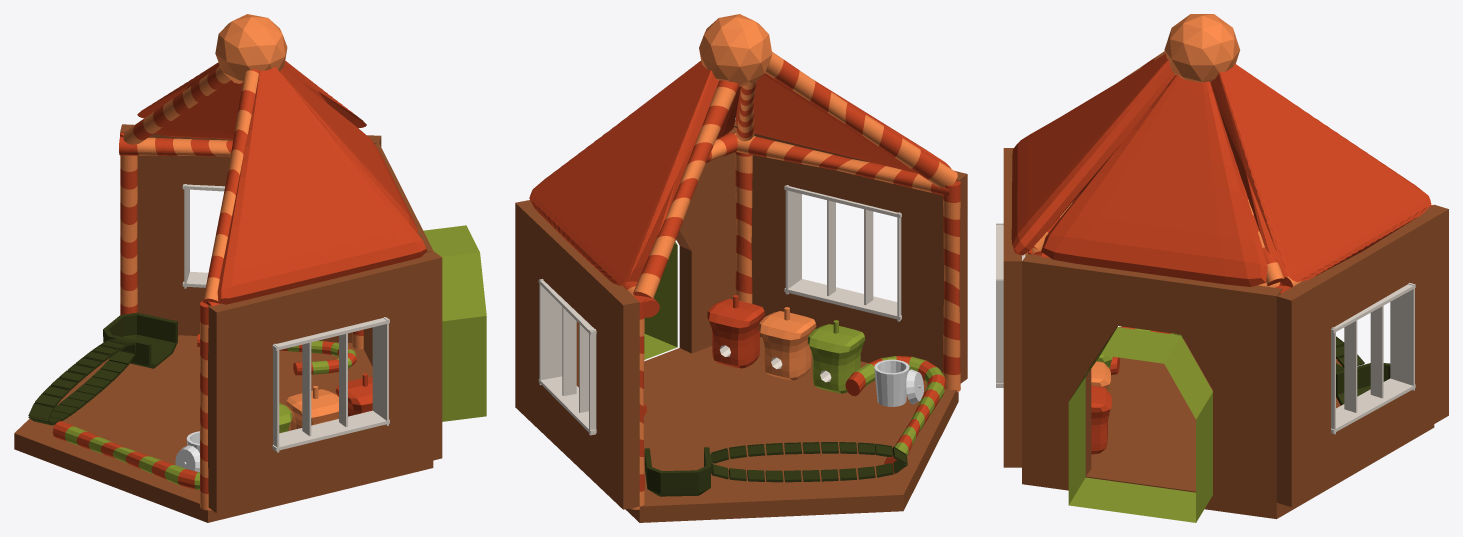
Rendered from Xmas_Fac_final.fbx.
The picture shows the model from 3 angles, left to right: view 1: azimuth 30°, elevation 25°; view 2: azimuth 150°, elevation 25°; view 3: azimuth 270°, elevation 25°; orthographic projection. The views are drawn at different scales.
Parts seen in each view (by area): view 1: Circle.002, roof.002, Circle.001, Circle.003, Circle.005, roof.001, Cube.040, Icosphere, roof.003, Cylinder.013, Cylinder.015, Cube.039 (+15 smaller); view 2: Circle.001, Circle.002, Circle.003, roof.001, Circle.004, roof.002, Cube.040, Cylinder.013, Cylinder.014, Icosphere, Cylinder.016, Cylinder.009 (+23 smaller); view 3: Circle.004, Circle.003, roof.003, roof.001, Circle.001, roof.002, Circle.005, Circle.002, Icosphere, Circle.010, Cube.008, Cube.004 (+8 smaller).
Boxes of the visible parts, x1=… form: Circle.002: x1=208, y1=251, x2=442, y2=513; roof.002: x1=217, y1=66, x2=426, y2=304; Circle.001: x1=14, y1=335, x2=433, y2=522; Circle.003: x1=120, y1=124, x2=381, y2=342; Circle.005: x1=423, y1=225, x2=486, y2=421; roof.001: x1=137, y1=61, x2=366, y2=139; Cube.040: x1=28, y1=338, x2=135, y2=425; Icosphere: x1=215, y1=14, x2=287, y2=83; roof.003: x1=280, y1=68, x2=417, y2=233; Cylinder.013: x1=203, y1=69, x2=259, y2=303; Cylinder.015: x1=120, y1=132, x2=137, y2=314; Cube.039: x1=103, y1=312, x2=177, y2=368; Circle.001: x1=625, y1=337, x2=958, y2=522; Circle.002: x1=734, y1=119, x2=967, y2=383; Circle.003: x1=515, y1=200, x2=639, y2=509; roof.001: x1=529, y1=61, x2=718, y2=285; Circle.004: x1=576, y1=127, x2=736, y2=387; roof.002: x1=736, y1=73, x2=951, y2=173; Cube.040: x1=710, y1=442, x2=907, y2=482; Cylinder.013: x1=765, y1=51, x2=957, y2=187; Cylinder.014: x1=633, y1=80, x2=739, y2=298; Icosphere: x1=699, y1=14, x2=772, y2=86; Cylinder.016: x1=943, y1=181, x2=960, y2=392; Cylinder.009: x1=735, y1=133, x2=957, y2=195; Circle.004: x1=1022, y1=254, x2=1282, y2=502; Circle.003: x1=1276, y1=204, x2=1448, y2=506; roof.003: x1=1041, y1=75, x2=1267, y2=286; roof.001: x1=1210, y1=64, x2=1431, y2=281; Circle.001: x1=1022, y1=339, x2=1434, y2=519; roof.002: x1=1011, y1=54, x2=1175, y2=255; Circle.005: x1=1068, y1=327, x2=1212, y2=504; Circle.002: x1=1003, y1=148, x2=1021, y2=467; Icosphere: x1=1164, y1=14, x2=1239, y2=82; Circle.010: x1=1069, y1=477, x2=1195, y2=522; Cube.008: x1=1390, y1=283, x2=1414, y2=390; Cube.004: x1=1331, y1=378, x2=1415, y2=433.
Bounding box in the file's own units: 5291 × 5099 × 4970.
